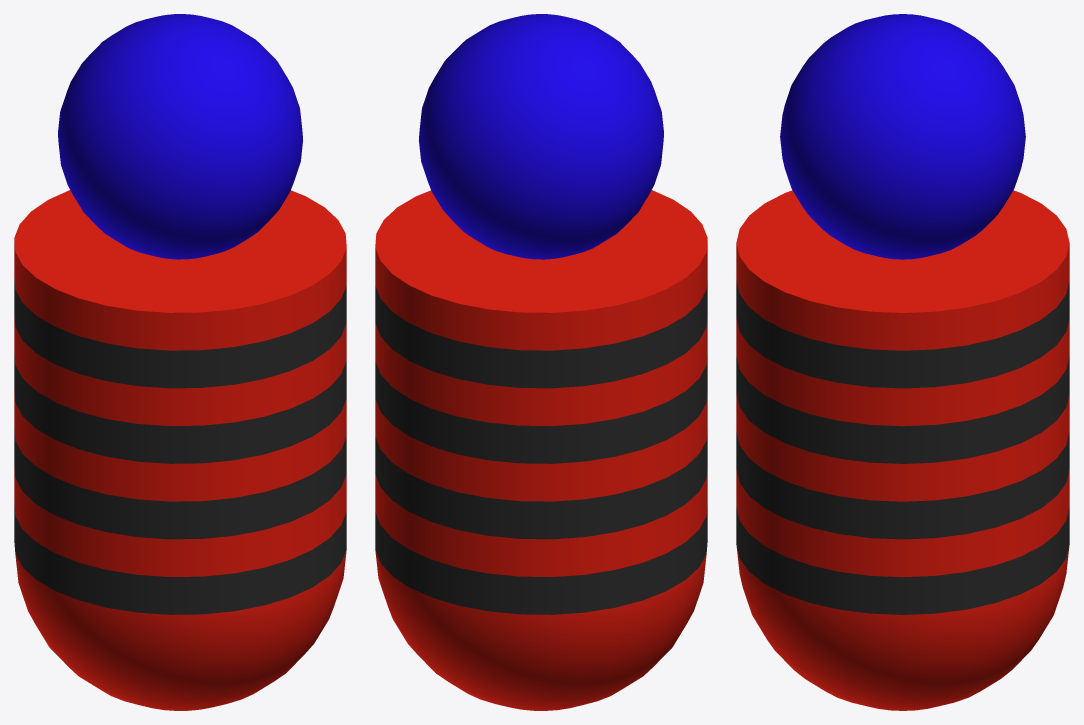
File: enemy2.fbx
3 renders of one model, left to right at view 1: azimuth 30°, elevation 25°; view 2: azimuth 150°, elevation 25°; view 3: azimuth 270°, elevation 25°, orthographic.
Visible parts, largest first — view 1: Cylinder; view 2: Cylinder; view 3: Cylinder.
Boxes of the visible parts, box(x1,y1,x2,y2) form: Cylinder: box(14, 14, 346, 710); Cylinder: box(375, 14, 707, 710); Cylinder: box(736, 14, 1069, 710).
Size of the model in its own units: 200 by 444 by 200.
